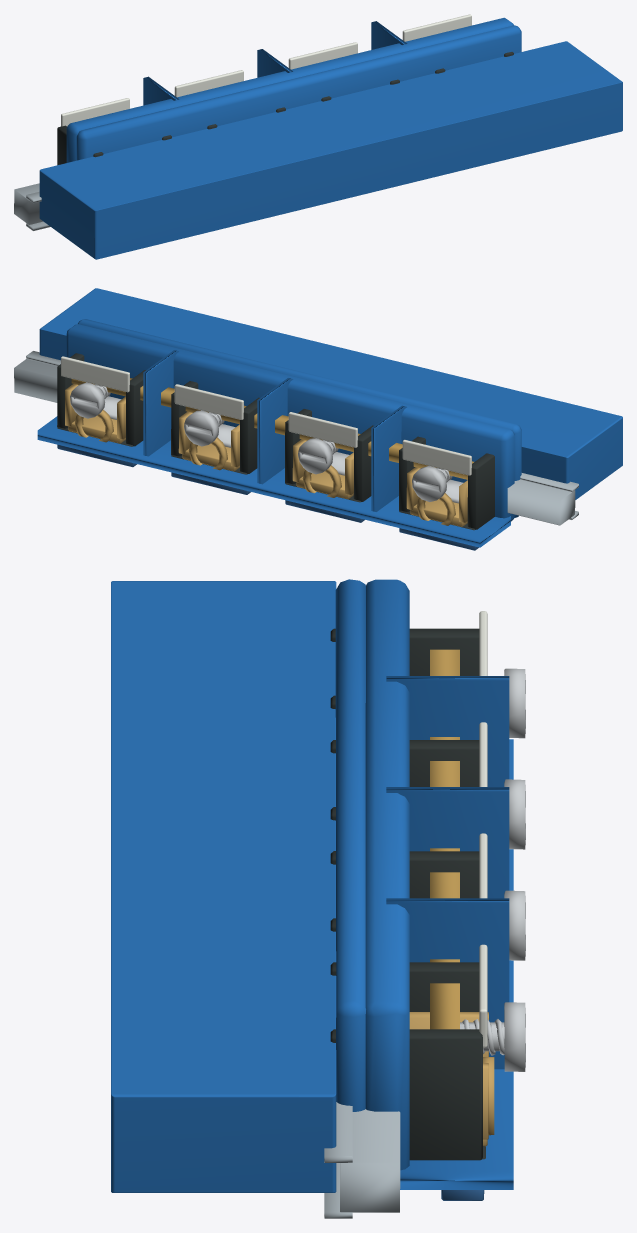
Rendered from neutralbar_default.low.glb.
3 renders of one model, top to bottom at view 1: azimuth 30°, elevation 25°; view 2: azimuth 150°, elevation 25°; view 3: azimuth 270°, elevation 25°, orthographic. The views are drawn at different scales.
Parts seen in each view (by area): view 1: part:body, part:terminals · Original 7cfa2338, part:mounting · Original 2a8198d3, Moulded terminal legend pad.003, Moulded terminal legend pad.002, Moulded terminal legend pad.001, Moulded terminal legend pad, detail:terminal-clamp:1 · Detail moulded engineering polymer; view 2: part:terminals · Original 7cfa2338, part:body, part:mounting · Original 2a8198d3, detail:terminal-clamp:1 · Detail moulded engineering polymer, detail:terminal-clamp:4 · Detail moulded engineering polymer, detail:terminal-clamp:2 · Detail moulded engineering polymer, detail:terminal-clamp:3 · Detail moulded engineering polymer, detail:terminal-clamp:2 · Detail machined brass, detail:terminal-clamp:1 · Detail machined brass, detail:terminal-clamp:3 · Detail machined brass, detail:terminal-clamp:4 · Detail machined brass, part:terminals.001 (+12 smaller); view 3: part:body, part:terminals · Original 7cfa2338, detail:terminal-clamp:4 · Detail moulded engineering polymer, part:mounting · Original 2a8198d3, part:terminals.001, detail:terminal-clamp:1 · Detail moulded engineering polymer, detail:terminal-clamp:3 · Detail moulded engineering polymer, detail:terminal-clamp:2 · Detail moulded engineering polymer, detail:terminal-clamp:4 · Detail zinc plated fixing, detail:terminal-clamp:4 · Detail machined brass, detail:terminal-clamp:2 · Detail zinc plated fixing, detail:terminal-clamp:3 · Detail zinc plated fixing (+2 smaller).
Boxes of the visible parts, x1,y1,x2,y2 form: part:body: (39, 41, 622, 259); part:terminals · Original 7cfa2338: (66, 17, 521, 162); part:mounting · Original 2a8198d3: (14, 183, 50, 230); Moulded terminal legend pad.003: (402, 14, 471, 41); Moulded terminal legend pad.002: (288, 42, 357, 69); Moulded terminal legend pad.001: (174, 70, 243, 97); Moulded terminal legend pad: (61, 98, 129, 126); detail:terminal-clamp:1 · Detail moulded engineering polymer: (57, 125, 171, 165); part:terminals · Original 7cfa2338: (37, 319, 521, 547); part:body: (39, 288, 622, 499); part:mounting · Original 2a8198d3: (14, 351, 578, 525); detail:terminal-clamp:1 · Detail moulded engineering polymer: (399, 436, 494, 530); detail:terminal-clamp:4 · Detail moulded engineering polymer: (57, 353, 145, 446); detail:terminal-clamp:2 · Detail moulded engineering polymer: (285, 409, 373, 502); detail:terminal-clamp:3 · Detail moulded engineering polymer: (171, 381, 259, 474); detail:terminal-clamp:2 · Detail machined brass: (292, 439, 353, 499); detail:terminal-clamp:1 · Detail machined brass: (406, 467, 467, 526); detail:terminal-clamp:3 · Detail machined brass: (178, 411, 239, 471); detail:terminal-clamp:4 · Detail machined brass: (65, 384, 125, 443); part:terminals.001: (71, 378, 473, 479); part:body: (111, 581, 336, 1192); part:terminals · Original 7cfa2338: (335, 579, 513, 1189); detail:terminal-clamp:4 · Detail moulded engineering polymer: (330, 962, 485, 1160); part:mounting · Original 2a8198d3: (324, 1102, 400, 1218); part:terminals.001: (430, 649, 459, 1029); detail:terminal-clamp:1 · Detail moulded engineering polymer: (330, 628, 479, 708); detail:terminal-clamp:3 · Detail moulded engineering polymer: (330, 851, 479, 931); detail:terminal-clamp:2 · Detail moulded engineering polymer: (330, 740, 479, 820); detail:terminal-clamp:4 · Detail zinc plated fixing: (460, 1002, 525, 1071); detail:terminal-clamp:4 · Detail machined brass: (409, 1012, 494, 1146); detail:terminal-clamp:2 · Detail zinc plated fixing: (504, 779, 525, 849); detail:terminal-clamp:3 · Detail zinc plated fixing: (504, 890, 525, 960).
Size of the model in its own units: 0.922 by 0.1677 by 0.3033.
